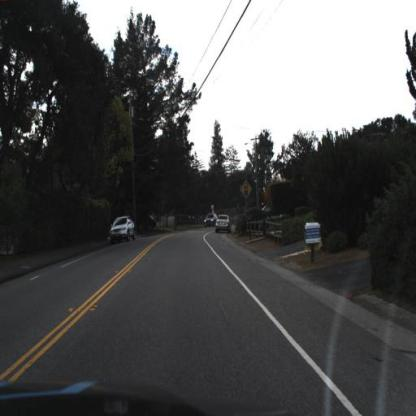car: (110, 214, 137, 243), (215, 214, 231, 230), (204, 213, 219, 229)
